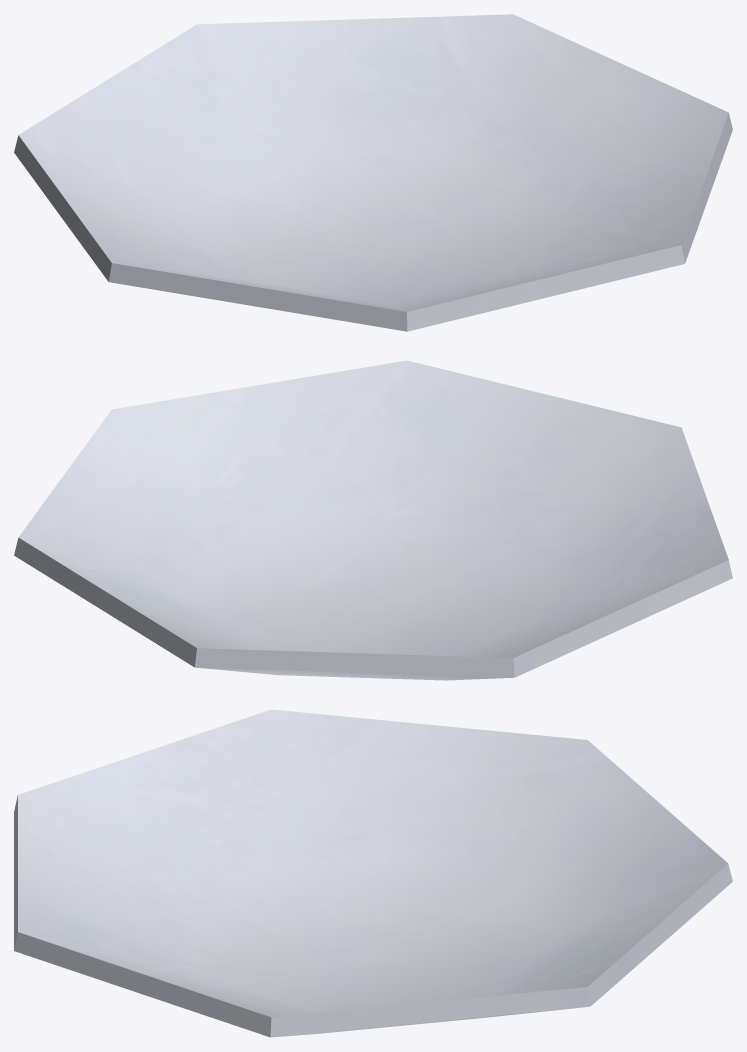
File: Dish_01.glb
3 views of the same model, one above another, from view 1: azimuth 30°, elevation 25°; view 2: azimuth 150°, elevation 25°; view 3: azimuth 270°, elevation 25° (orthographic). The views are drawn at different scales.
Parts seen in each view (by area): view 1: Dish_01; view 2: Dish_01; view 3: Dish_01.
Boxes of the visible parts, x1=… form: Dish_01: x1=14, y1=14, x2=732, y2=331; Dish_01: x1=14, y1=360, x2=732, y2=680; Dish_01: x1=14, y1=709, x2=732, y2=1037.
Size of the model in its own units: 0.3355 by 0.0444 by 0.3272.
Materials: 1 (1 with a texture image).
